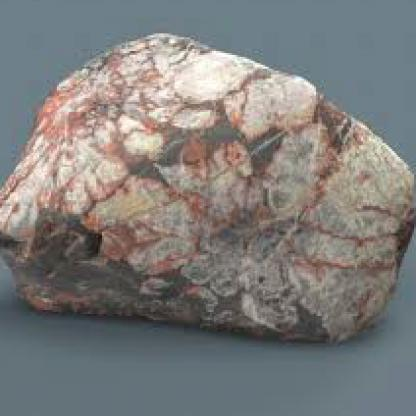Metamorphic_Marble: (0, 27, 414, 348)
